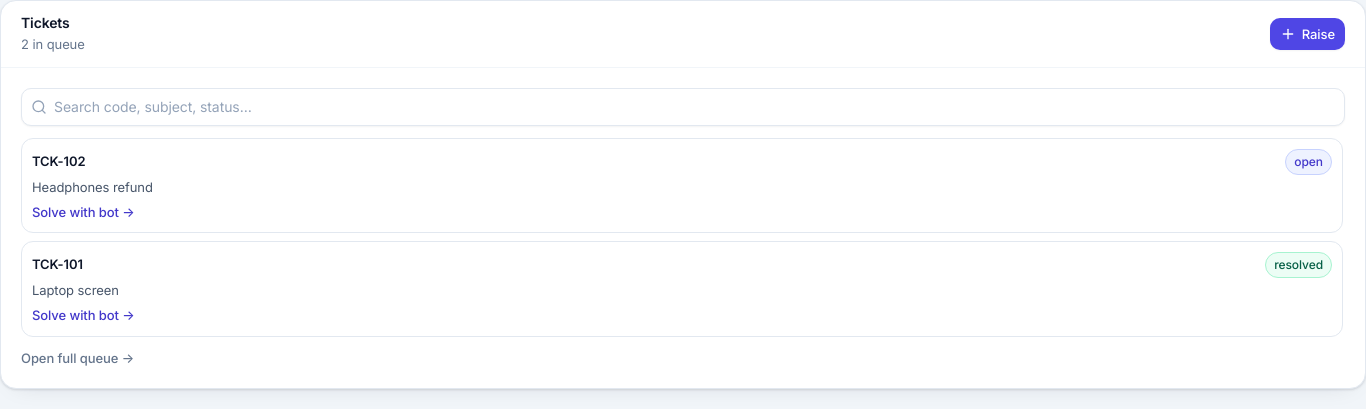
Test: TicketRail › filters the queue by the search box
Type "laptop" into the field with placeholder "Search code, subject, status…" at [683, 106], box left=21, top=88, right=1345, bottom=126
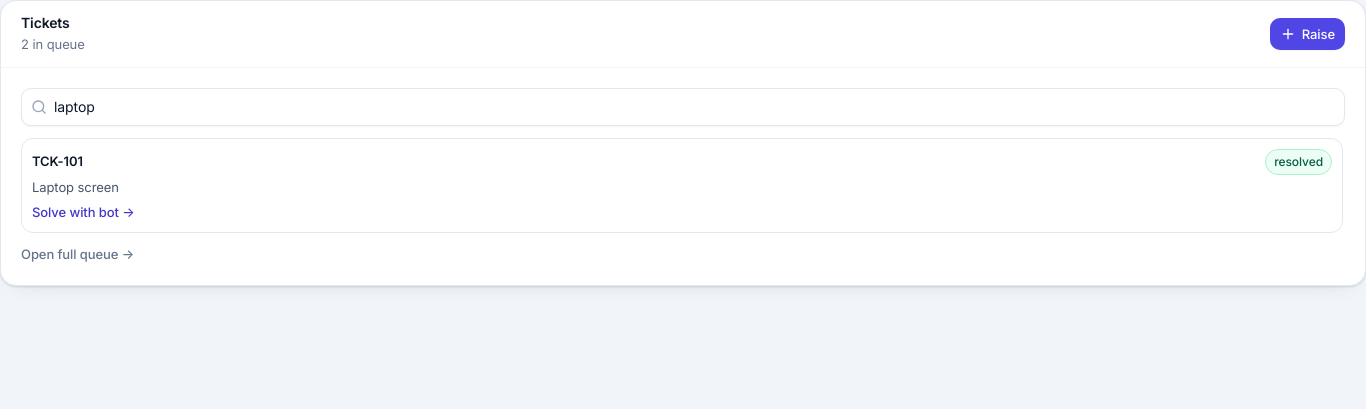
expect the text "TCK-101" is shown: met, box left=32, top=152, right=83, bottom=171
expect the button "TCK-102" is gone: met
